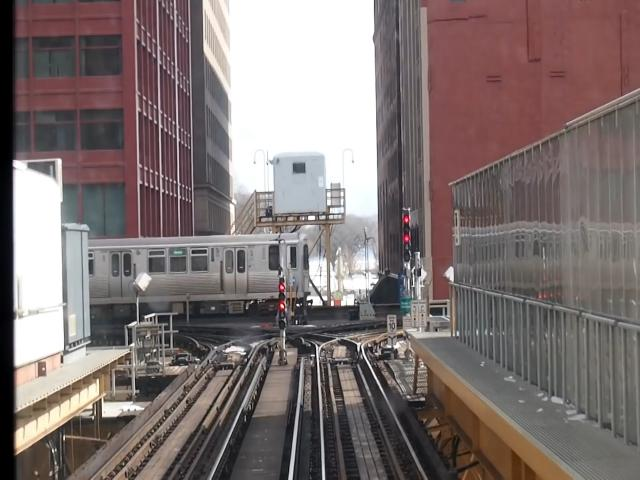signal light: (403, 208, 413, 268), (279, 276, 289, 334)
